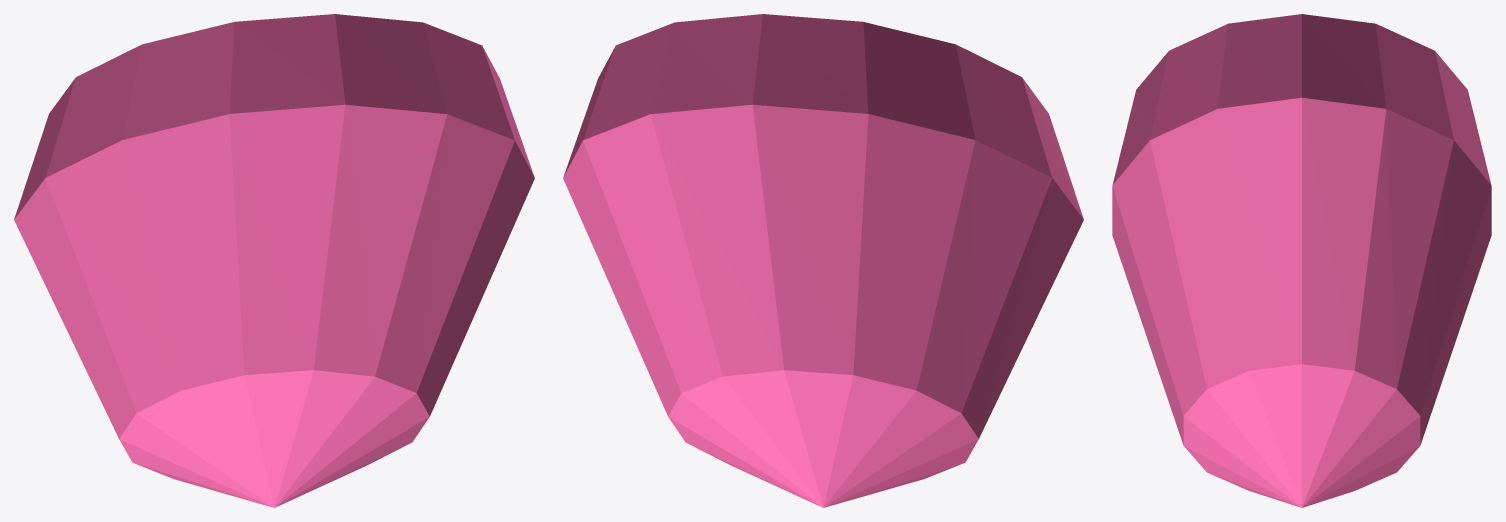
File: ruby.glb
The picture shows the model from 3 angles, left to right: view 1: azimuth 30°, elevation 25°; view 2: azimuth 150°, elevation 25°; view 3: azimuth 270°, elevation 25°; orthographic projection. The views are drawn at different scales.
Bounding box in the file's own units: 0.25 × 0.2045 × 0.1773.
